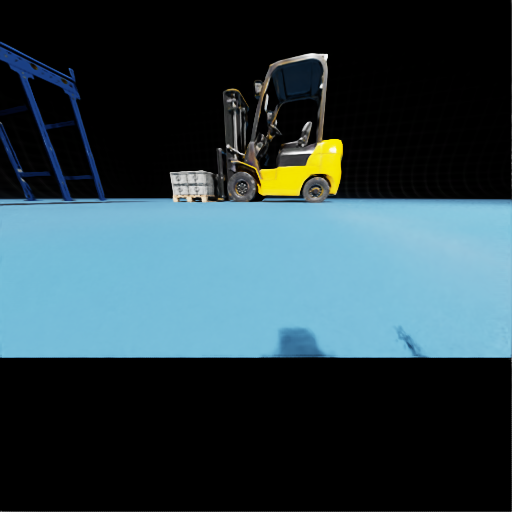transportation_area: (188, 183, 218, 194)
